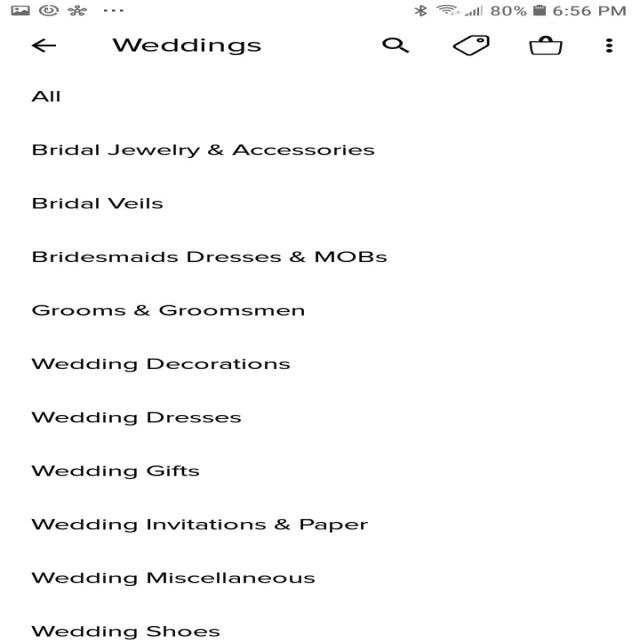Icon: (452, 35, 489, 56), (528, 36, 563, 56), (382, 37, 409, 54), (31, 39, 57, 53), (604, 38, 612, 53)
Text: (32, 144, 374, 159), (30, 518, 368, 533), (30, 571, 315, 586), (32, 250, 387, 262), (30, 358, 290, 372), (31, 304, 304, 316), (30, 412, 241, 426), (30, 625, 220, 639), (111, 38, 261, 55), (30, 465, 199, 479), (33, 198, 164, 210), (31, 91, 60, 102)
